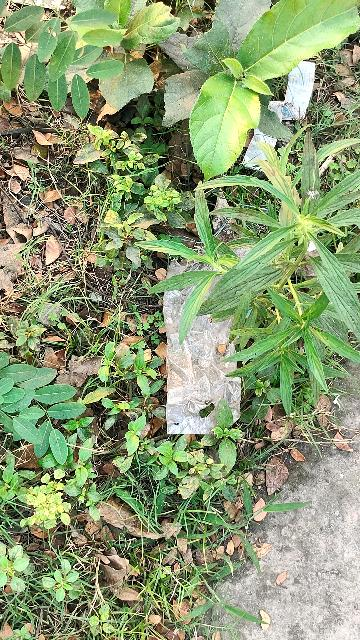polythene: (148, 227, 261, 441)
